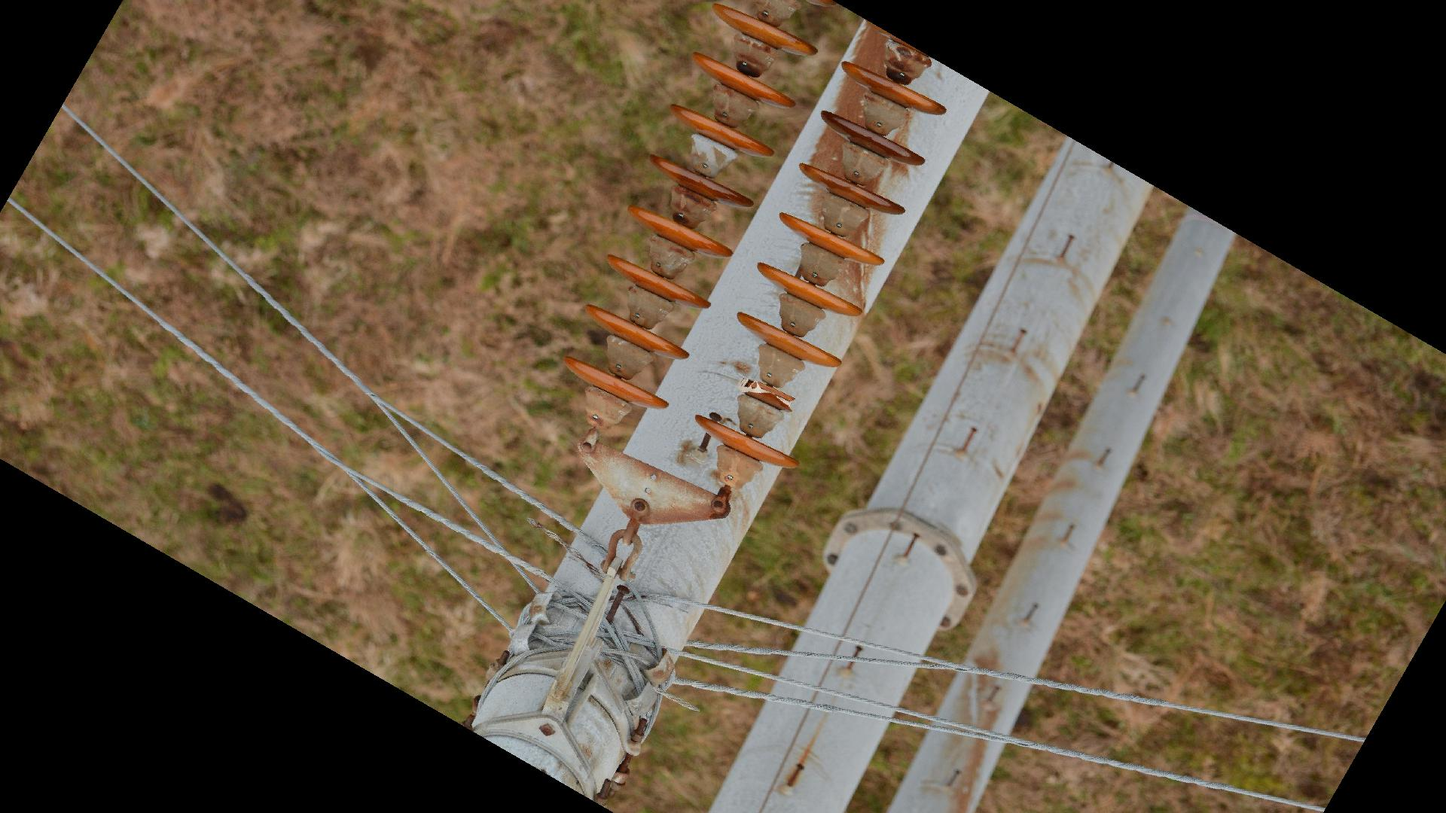insulator: (685, 52, 950, 478), (561, 1, 820, 421)
